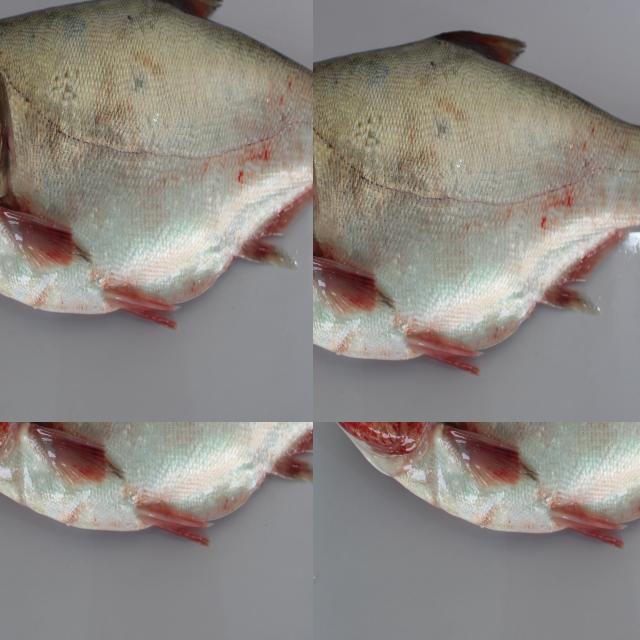fish: (313, 422, 640, 552)
